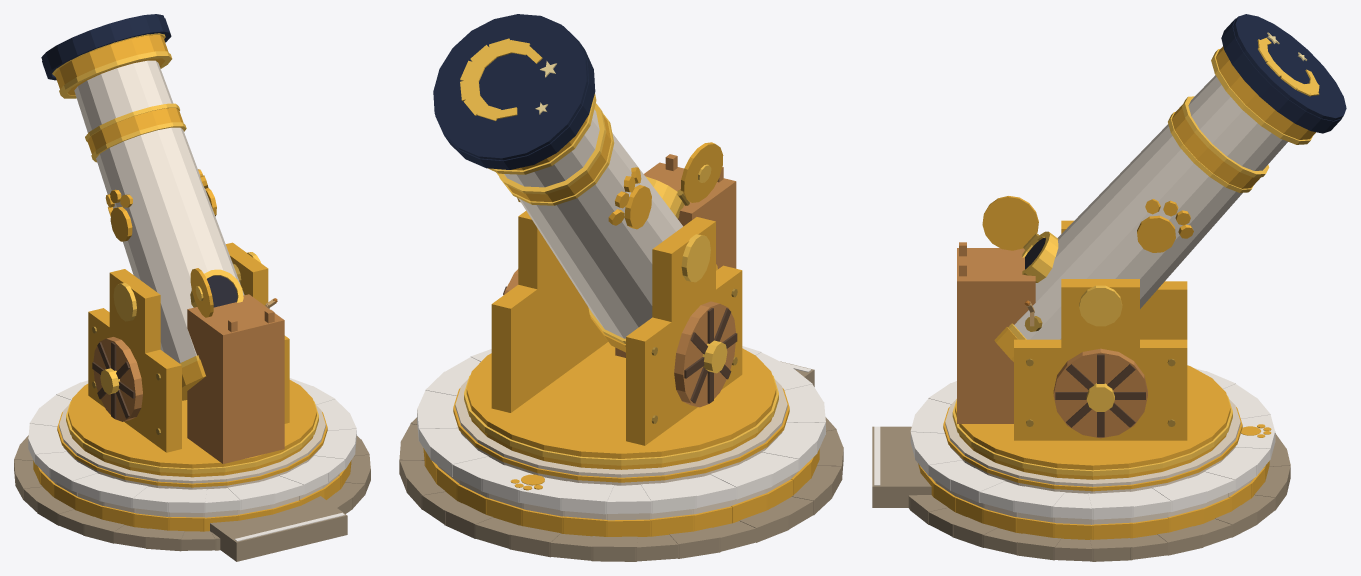
Rendered from CatCafe_Camp_Cannon_Desert.glb.
3 views of the same model, side by side, from view 1: azimuth 30°, elevation 25°; view 2: azimuth 150°, elevation 25°; view 3: azimuth 270°, elevation 25° (orthographic). The views are drawn at different scales.
Parts seen in each view (by area): view 1: CatCafe_Camp_Cannon_Desert_Turret, CatCafe_Camp_Cannon_Desert, CatCafe_Camp_Cannon_Desert_Climb, CatCafe_Camp_Cannon_Desert_MoonCover; view 2: CatCafe_Camp_Cannon_Desert_Turret, CatCafe_Camp_Cannon_Desert, CatCafe_Camp_Cannon_Desert_MoonCover, CatCafe_Camp_Cannon_Desert_Climb; view 3: CatCafe_Camp_Cannon_Desert_Turret, CatCafe_Camp_Cannon_Desert, CatCafe_Camp_Cannon_Desert_Climb, CatCafe_Camp_Cannon_Desert_MoonCover.
Boxes of the visible parts, left/top/right/bottom form: CatCafe_Camp_Cannon_Desert_Turret: left=52, top=33, right=318, bottom=477; CatCafe_Camp_Cannon_Desert: left=14, top=378, right=370, bottom=561; CatCafe_Camp_Cannon_Desert_Climb: left=187, top=294, right=284, bottom=463; CatCafe_Camp_Cannon_Desert_MoonCover: left=41, top=14, right=171, bottom=80; CatCafe_Camp_Cannon_Desert_Turret: left=464, top=94, right=778, bottom=469; CatCafe_Camp_Cannon_Desert: left=399, top=346, right=843, bottom=561; CatCafe_Camp_Cannon_Desert_MoonCover: left=433, top=14, right=595, bottom=169; CatCafe_Camp_Cannon_Desert_Climb: left=615, top=162, right=736, bottom=357; CatCafe_Camp_Cannon_Desert_Turret: left=952, top=46, right=1315, bottom=479; CatCafe_Camp_Cannon_Desert: left=872, top=368, right=1290, bottom=561; CatCafe_Camp_Cannon_Desert_Climb: left=957, top=248, right=1035, bottom=423; CatCafe_Camp_Cannon_Desert_MoonCover: left=1221, top=14, right=1346, bottom=133.
Size of the model in its own units: 7.54 by 9.55 by 9.03.
1 material, 1 textured.
